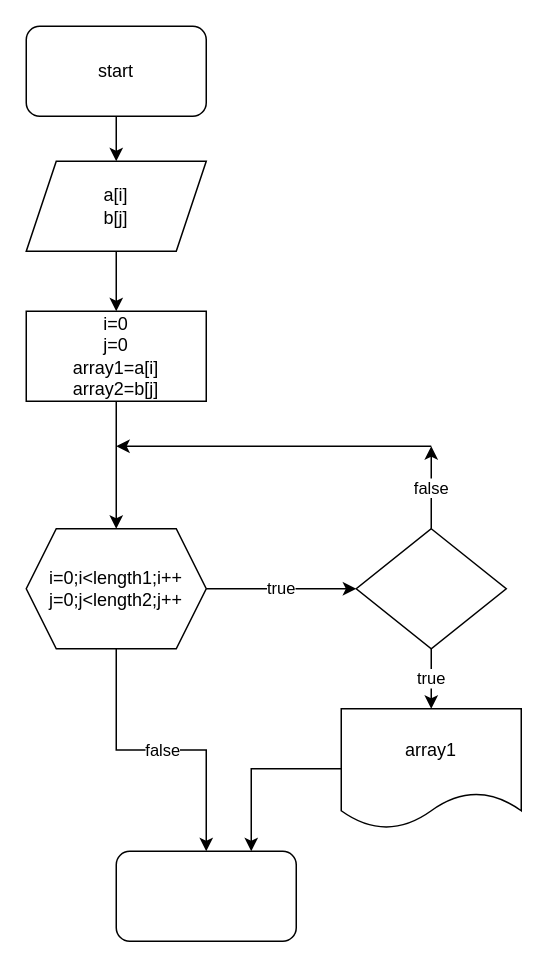
Image size: 548x968. Some labels were removed from this diagram. The shapes that lost their labels are listed below. From the top down, each one's centre as x and y in pixels, then its label:
At pixel 430 588: "array1==array2".
At pixel 205 895: "end".
